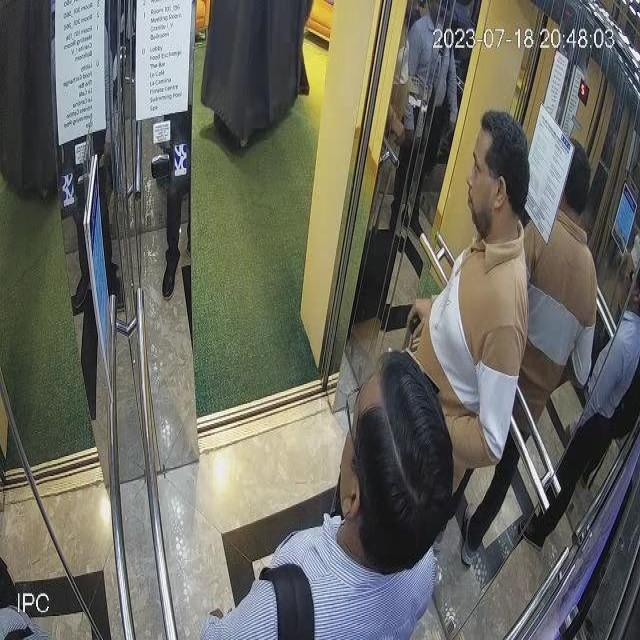person: (210, 346, 459, 640), (386, 111, 541, 449), (539, 152, 599, 409)
